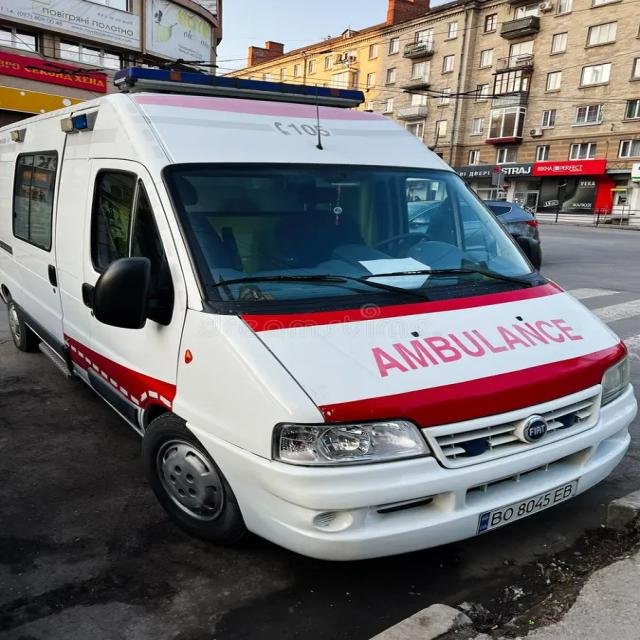Ambulance: (0, 48, 640, 566)
